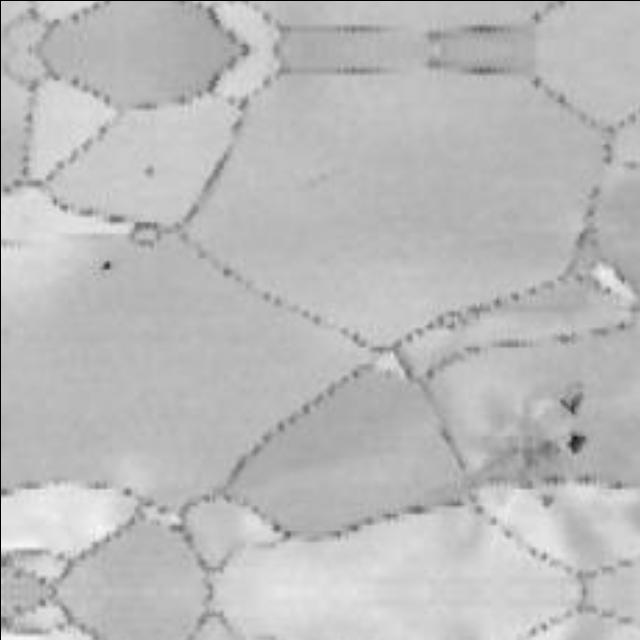good_void: (559, 390, 585, 417), (565, 433, 587, 457), (141, 159, 157, 183), (535, 494, 557, 511), (98, 256, 115, 274)
